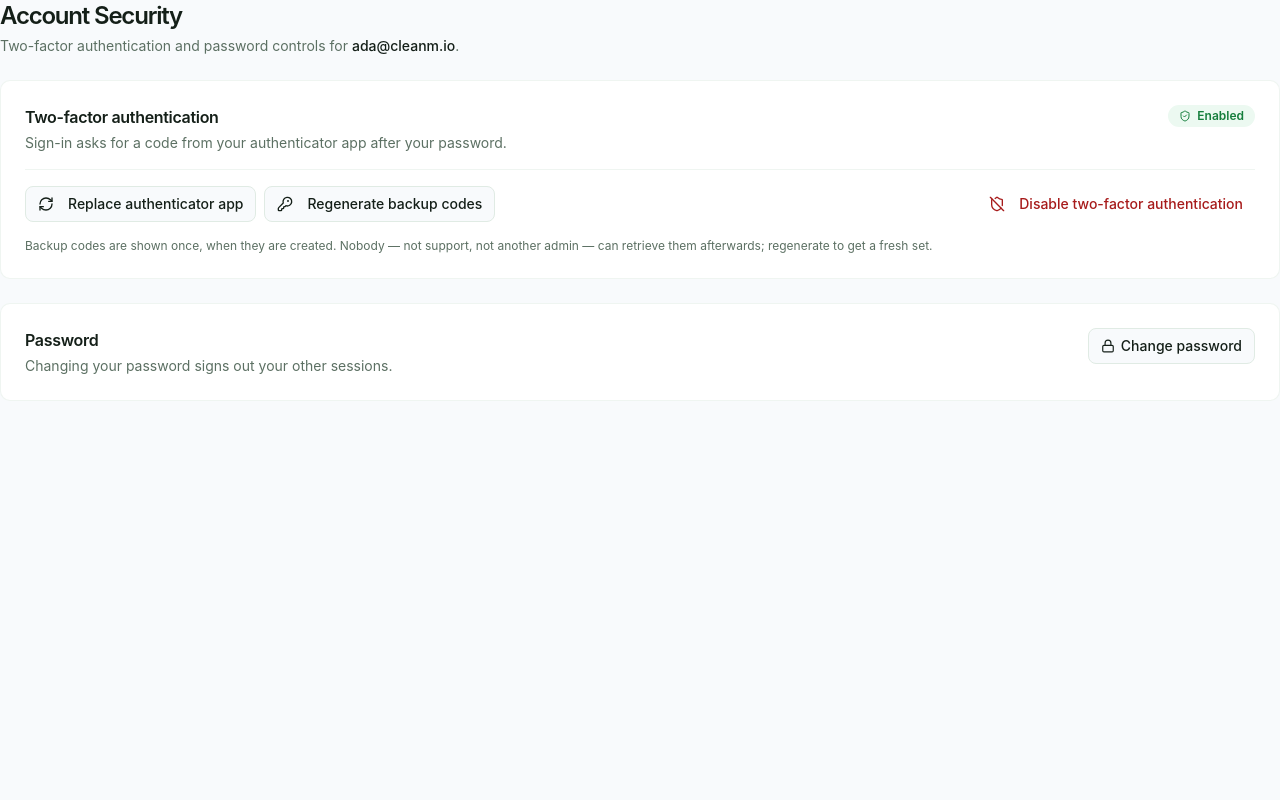
admin two-factor security settings › posts the code when disabling and reflects the flipped profile
This screenshot has width=1280, height=800.
Check: the text "Enabled" is shown, box left=1168, top=105, right=1255, bottom=127
Click the button "Disable two-factor authentication". click: point(1116, 204)
box: left=977, top=186, right=1255, bottom=222
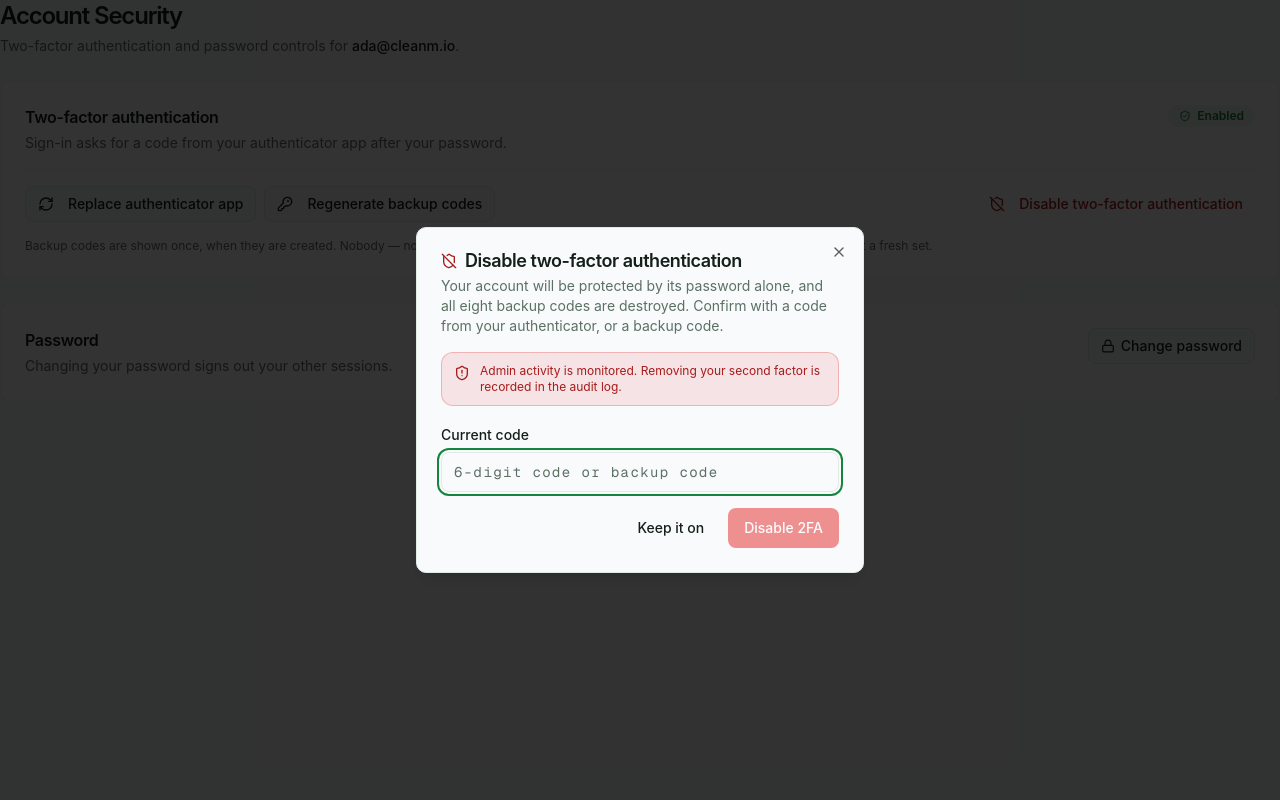
Check: the button "Disable 2FA" is disabled, box left=728, top=508, right=839, bottom=548
Type "654321" into the field labelled "Current code". click: point(640, 472)
box: left=441, top=452, right=839, bottom=492
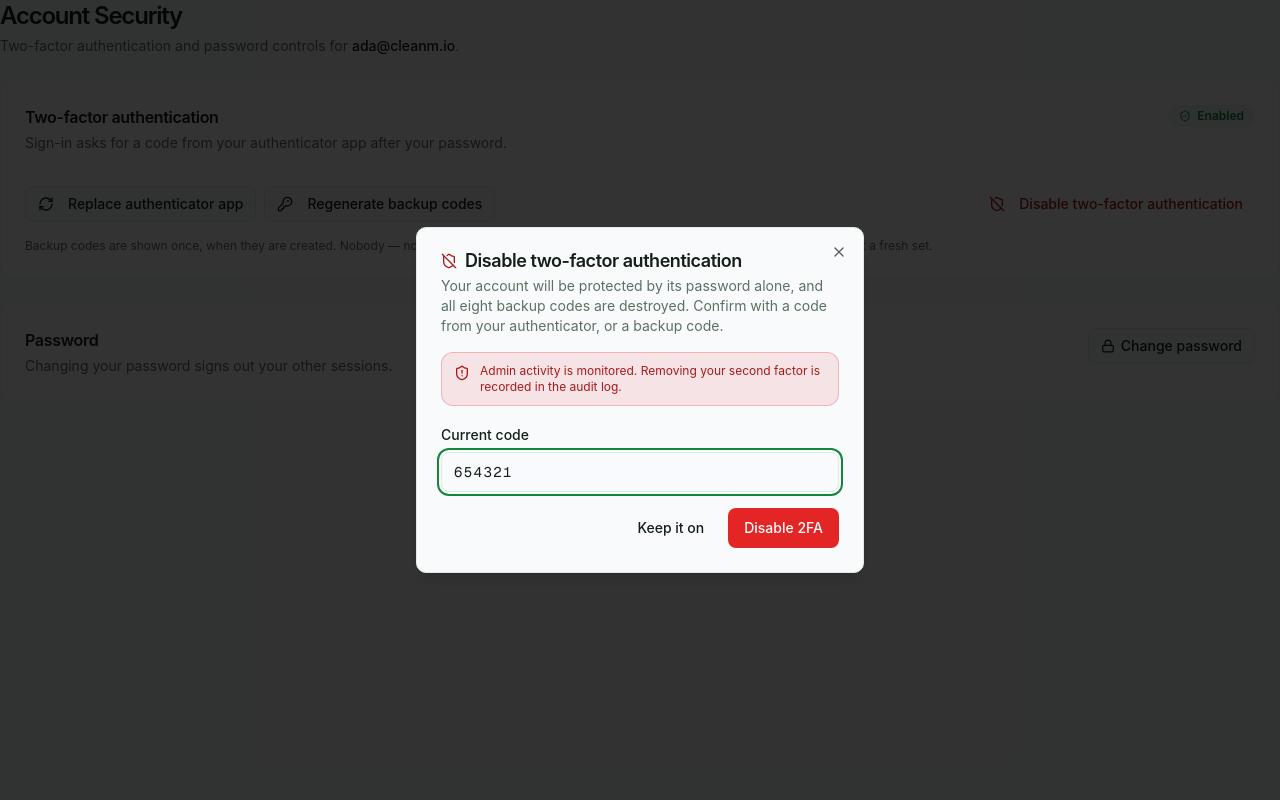
Click the button "Disable 2FA". click: point(784, 528)
box: left=728, top=508, right=839, bottom=548
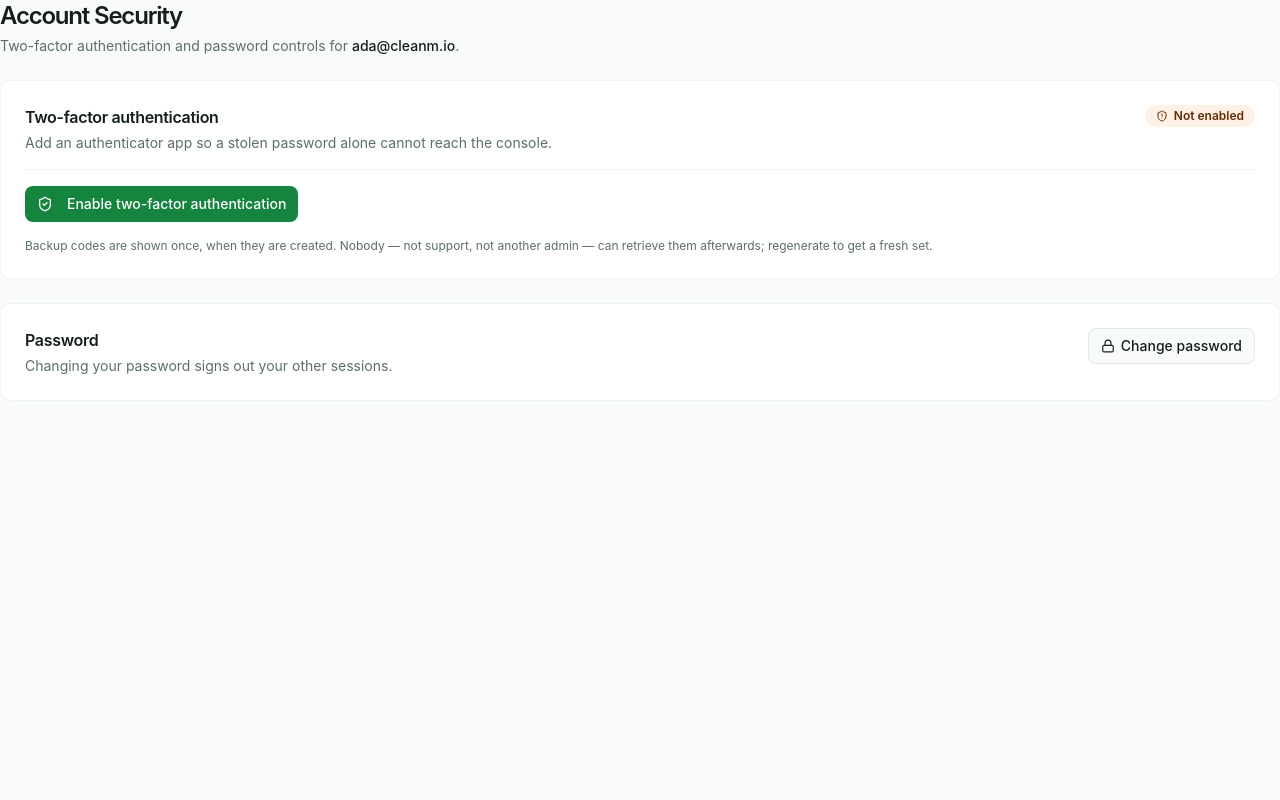
Check: the text "Not enabled" is shown, box left=1145, top=105, right=1255, bottom=127
